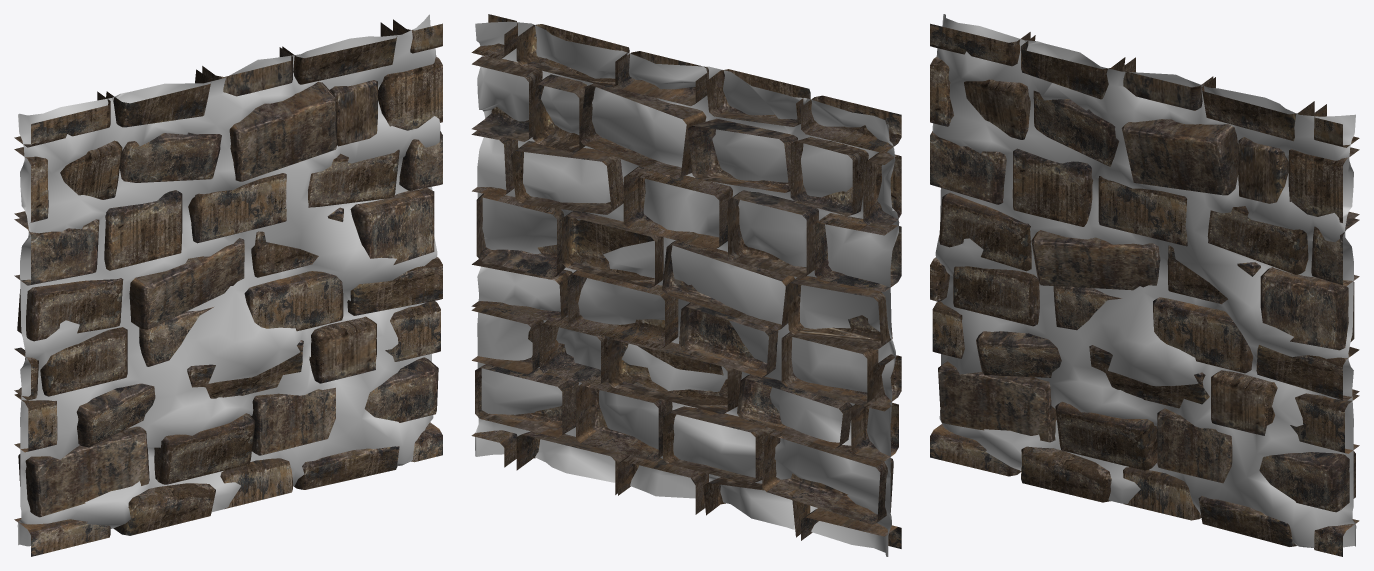
File: taureg_straight.dae
3 renders of one model, left to right at view 1: azimuth 30°, elevation 25°; view 2: azimuth 150°, elevation 25°; view 3: azimuth 330°, elevation 25°, orthographic.
Visible parts, largest first — view 1: lo_rock, Mesh__2_; view 2: lo_rock, Mesh__2_; view 3: lo_rock, Mesh__2_.
Part boxes in pixels (x1,y1,x2,y2): lo_rock: (14,19,442,556); Mesh__2_: (17,14,440,546); lo_rock: (471,14,901,548); Mesh__2_: (475,21,899,556); lo_rock: (930,23,1359,556); Mesh__2_: (932,14,1356,547).
Bounding box in the file's own units: 4 × 4.02 × 0.4687.
